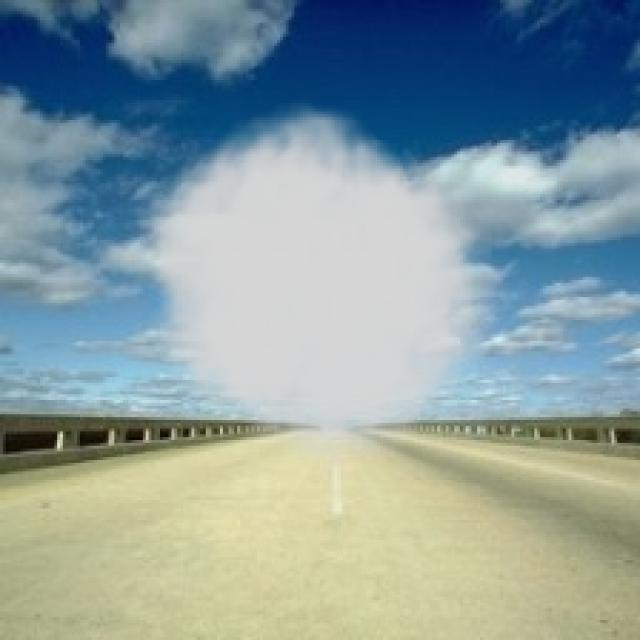Smoke: (132, 92, 492, 477)
